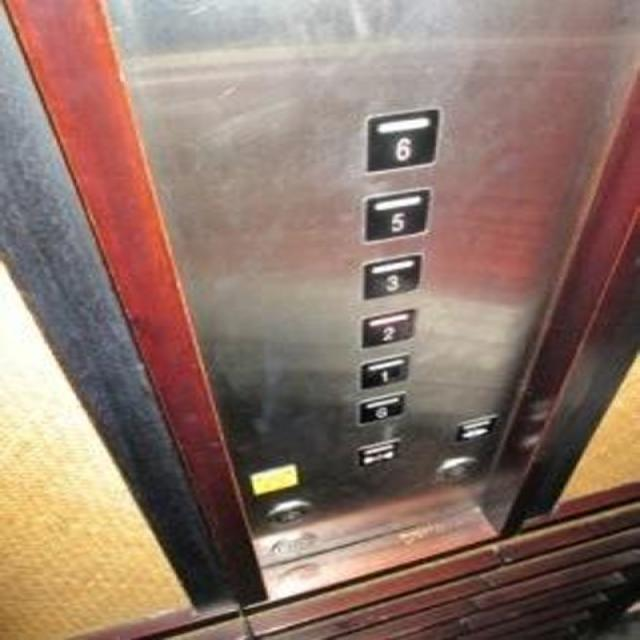1: (359, 352, 408, 390)
2: (360, 310, 415, 348)
3: (363, 252, 420, 300)
5: (362, 187, 429, 240)
6: (364, 107, 440, 176)
G: (357, 391, 404, 424)
blur: (248, 461, 300, 494), (261, 496, 315, 526), (435, 454, 480, 484), (455, 414, 496, 442)
close: (358, 438, 398, 470)
